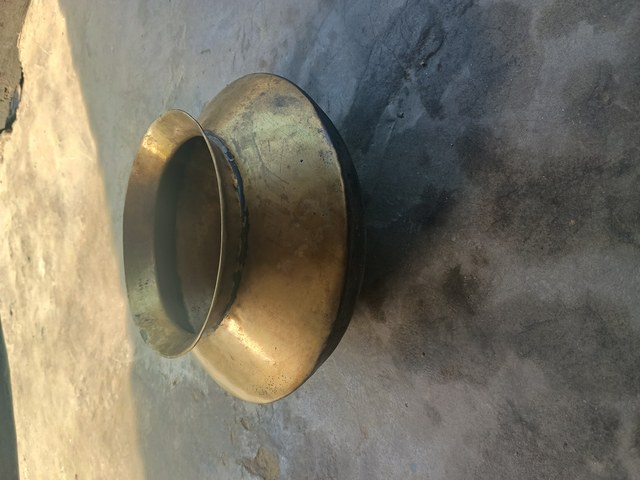Cello Airtight Container: (32, 24, 608, 456)
